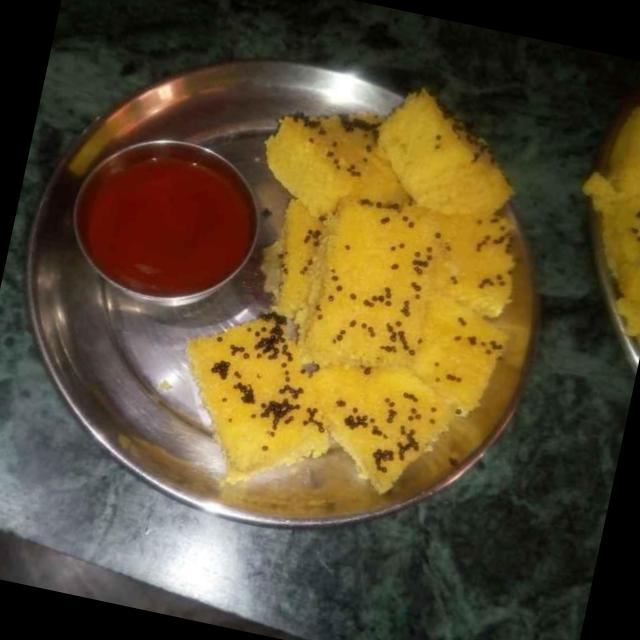dhokla: (192, 64, 555, 502)
